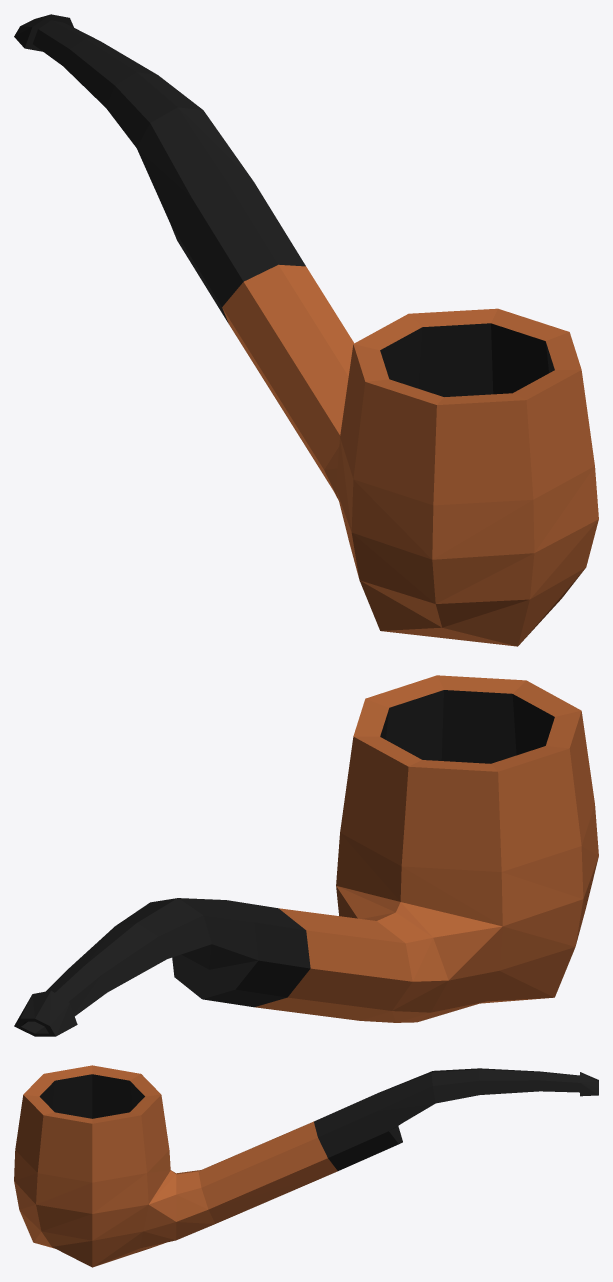
The model's file is Pipe.glb.
3 renders of one model, top to bottom at view 1: azimuth 30°, elevation 25°; view 2: azimuth 150°, elevation 25°; view 3: azimuth 270°, elevation 25°, orthographic. The views are drawn at different scales.
Parts seen in each view (by area): view 1: Node; view 2: Node; view 3: Node.
Boxes of the visible parts, x1,y1,x2,y2 form: Node: (14,14,598,646); Node: (14,675,598,1036); Node: (14,1065,598,1267).
Bounding box in the file's own units: 1.08 × 1.44 × 4.01.
